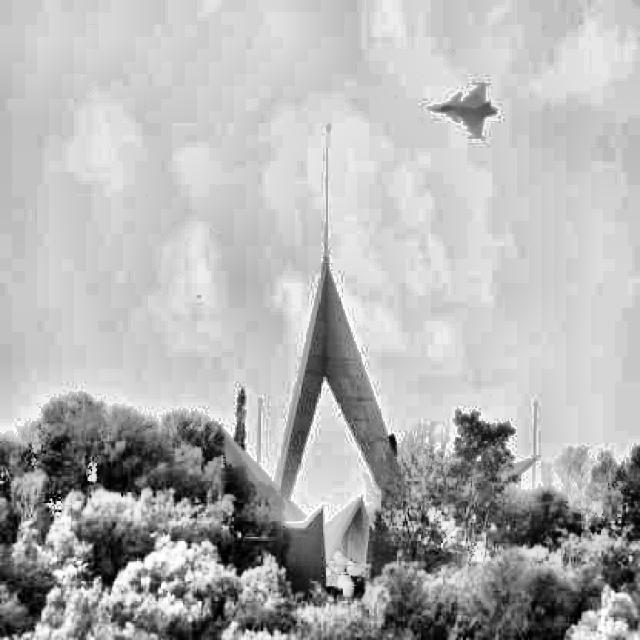JAS39: (426, 83, 497, 139)
